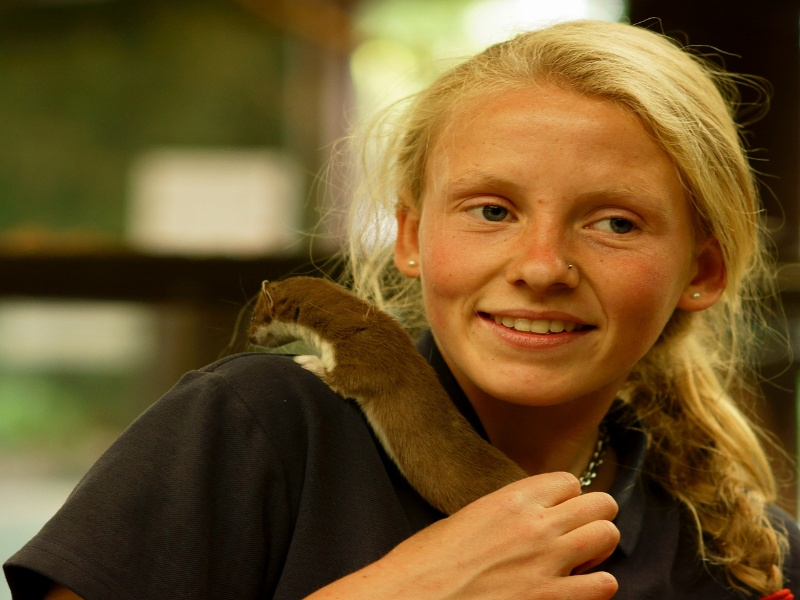human face: (410, 63, 710, 403)
minkish: (248, 273, 480, 505)
